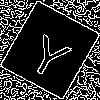Y: (24, 25, 78, 82)
